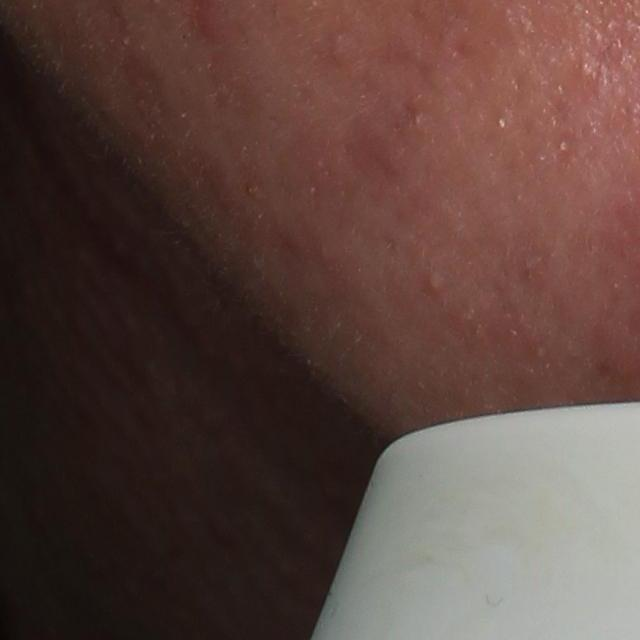comedo: (426, 277, 444, 300)
